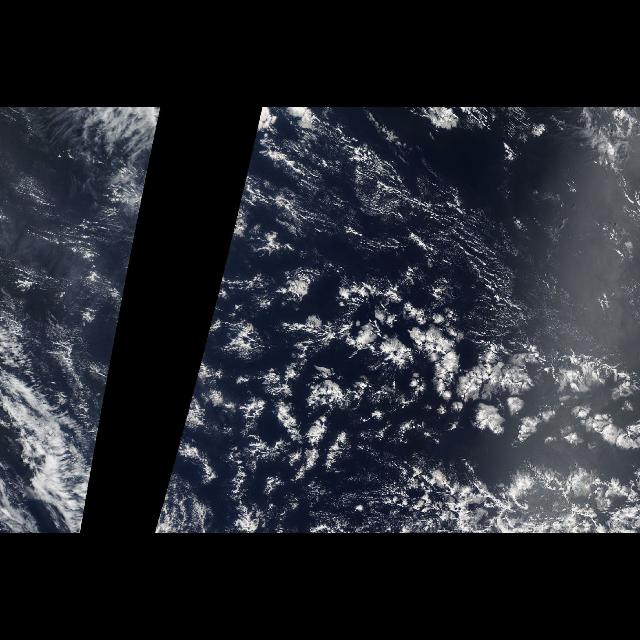Flower: (228, 262, 640, 470)
Sugar: (292, 151, 586, 351), (3, 168, 108, 376), (300, 475, 640, 533)
